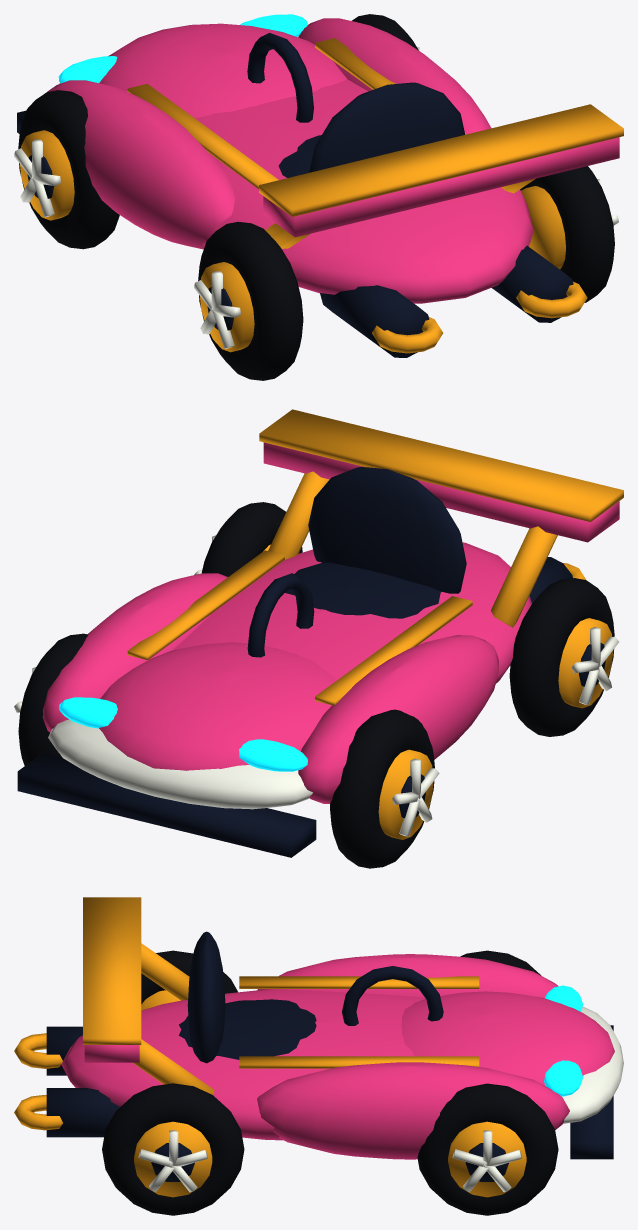
Rendered from kart_pink.glb.
The picture shows the model from 3 angles, top to bottom: view 1: azimuth 30°, elevation 25°; view 2: azimuth 150°, elevation 25°; view 3: azimuth 270°, elevation 25°; orthographic projection. The views are drawn at different scales.
Visible parts, largest first — view 1: body, wheel-back-left, wheel-front-left, wheel-back-right, wheel-front-right; view 2: body, wheel-back-left, wheel-front-left, wheel-back-right, wheel-front-right; view 3: body, wheel-back-right, wheel-front-right, wheel-back-left, wheel-front-left.
Part boxes in pixels (x1,y1,x2,y2): body: (17,14,623,357); wheel-back-left: (194,221,303,380); wheel-front-left: (14,90,119,249); wheel-back-right: (520,166,618,302); wheel-front-right: (352,14,420,51); body: (17,409,623,857); wheel-back-left: (509,578,619,736); wheel-front-left: (330,709,439,868); wheel-back-right: (194,502,302,576); wheel-front-right: (14,633,88,765); body: (14,897,623,1159); wheel-back-right: (102,1083,244,1215); wheel-front-right: (417,1083,558,1215); wheel-back-left: (141,950,237,1010); wheel-front-left: (460,950,541,975).
Size of the model in its own units: 2.69 by 1.58 by 4.19.
